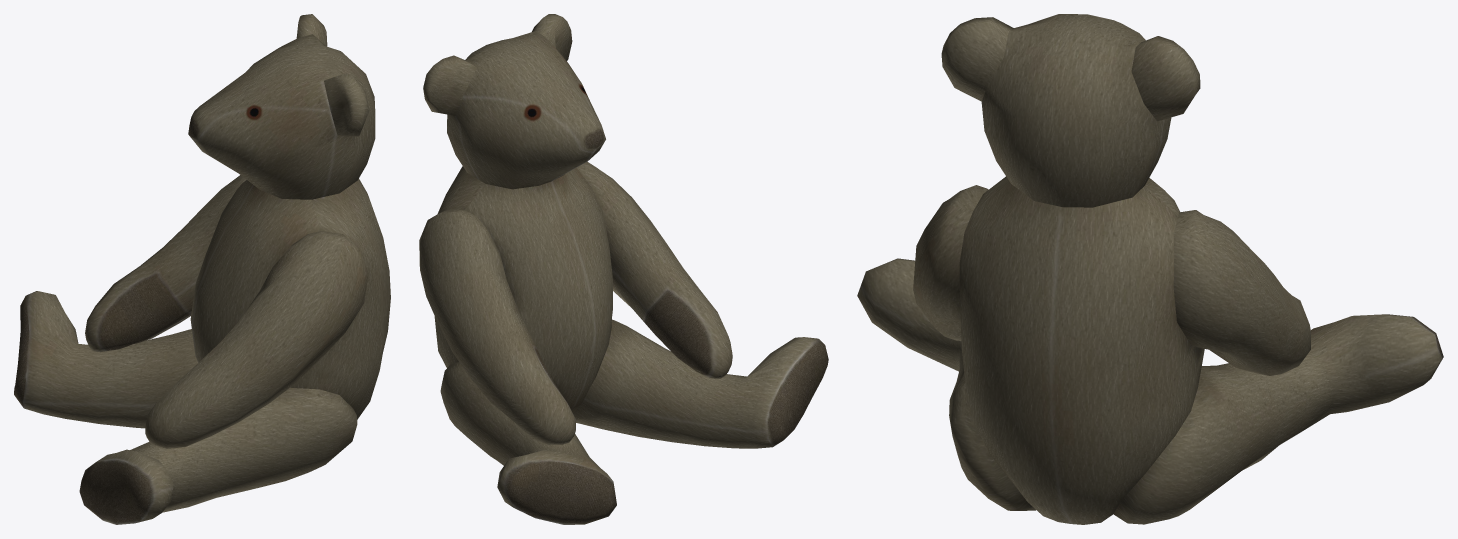
File: bear.FBX
The picture shows the model from 3 angles, left to right: view 1: azimuth 30°, elevation 25°; view 2: azimuth 150°, elevation 25°; view 3: azimuth 270°, elevation 25°; orthographic projection. The views are drawn at different scales.
Visible parts, largest first — view 1: bear; view 2: bear; view 3: bear.
Boxes of the visible parts, x1=… form: bear: x1=14, y1=14, x2=390, y2=524; bear: x1=419, y1=14, x2=828, y2=524; bear: x1=857, y1=14, x2=1443, y2=524.
Bounding box in the file's own units: 0.1819 × 0.2121 × 0.2228.
Materials: 1 (1 with a texture image).
